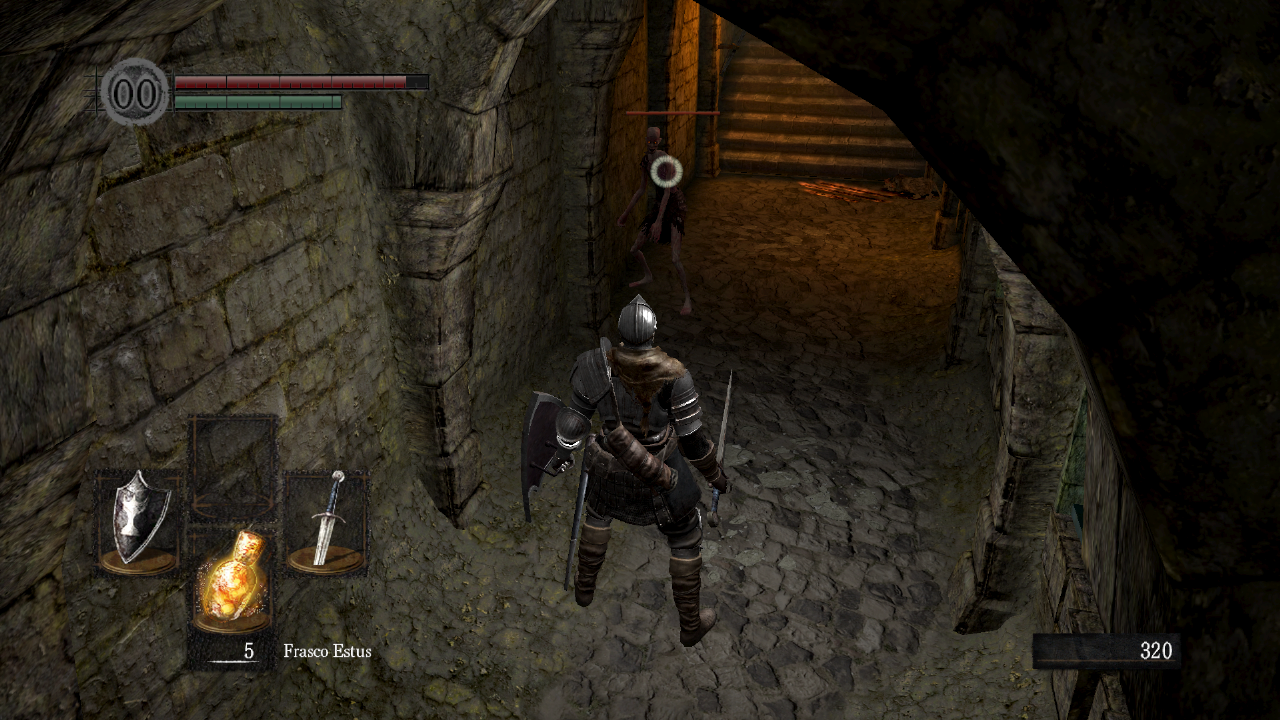hollow: (616, 126, 693, 315)
player: (520, 293, 734, 647)
